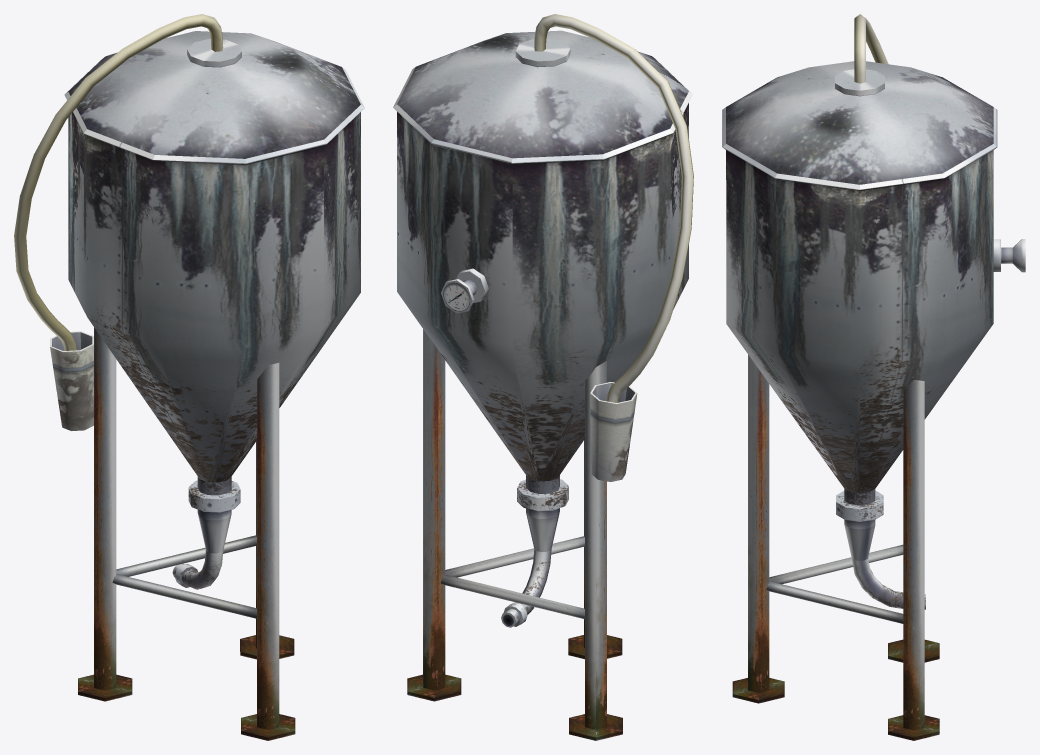
The model's file is vats02.obj.
3 renders of one model, left to right at view 1: azimuth 30°, elevation 25°; view 2: azimuth 150°, elevation 25°; view 3: azimuth 270°, elevation 25°, orthographic. The views are drawn at different scales.
Visible parts, largest first — view 1: Vats02, VatsLeg03, VatsLeg01, VatsTubing, VatsCup, VatsLegSupp02, VatsLegSupp01, VatsTopLid, VatsLeg02; view 2: Vats02, VatsLeg02, VatsLeg01, VatsTubing, VatsCup, VatsLegSupp01, VatsMeter, VatsLegSupp03, VatsTopLid, VatsLeg03; view 3: Vats02, VatsLeg02, VatsLeg03, VatsLegSupp03, VatsTubing, VatsLegSupp02, VatsTopLid, VatsMeter, VatsLeg01.
Boxes of the visible parts, bbox=[...] form: Vats02: bbox=[64, 31, 364, 589]; VatsLeg03: bbox=[241, 362, 295, 740]; VatsLeg01: bbox=[78, 327, 132, 701]; VatsTubing: bbox=[14, 14, 223, 350]; VatsCup: bbox=[50, 331, 93, 430]; VatsLegSupp02: bbox=[112, 574, 256, 618]; VatsLegSupp01: bbox=[116, 535, 256, 576]; VatsTopLid: bbox=[187, 39, 241, 67]; VatsLeg02: bbox=[240, 441, 294, 659]; Vats02: bbox=[393, 30, 692, 627]; VatsLeg02: bbox=[407, 329, 461, 701]; VatsLeg01: bbox=[569, 361, 622, 740]; VatsTubing: bbox=[534, 14, 693, 402]; VatsCup: bbox=[590, 382, 637, 481]; VatsLegSupp01: bbox=[440, 574, 584, 619]; VatsMeter: bbox=[441, 268, 488, 313]; VatsLegSupp03: bbox=[445, 536, 584, 577]; VatsTopLid: bbox=[515, 38, 570, 67]; VatsLeg03: bbox=[568, 439, 622, 659]; Vats02: bbox=[722, 61, 997, 609]; VatsLeg02: bbox=[888, 379, 939, 740]; VatsLeg03: bbox=[732, 354, 784, 703]; VatsLegSupp03: bbox=[766, 581, 903, 623]; VatsTubing: bbox=[854, 14, 888, 83]; VatsLegSupp02: bbox=[769, 544, 903, 584]; VatsTopLid: bbox=[835, 69, 884, 96]; VatsMeter: bbox=[993, 239, 1025, 272]; VatsLeg01: bbox=[888, 639, 939, 662].
Bounding box in the file's own units: 1.9 × 4.08 × 1.72.
